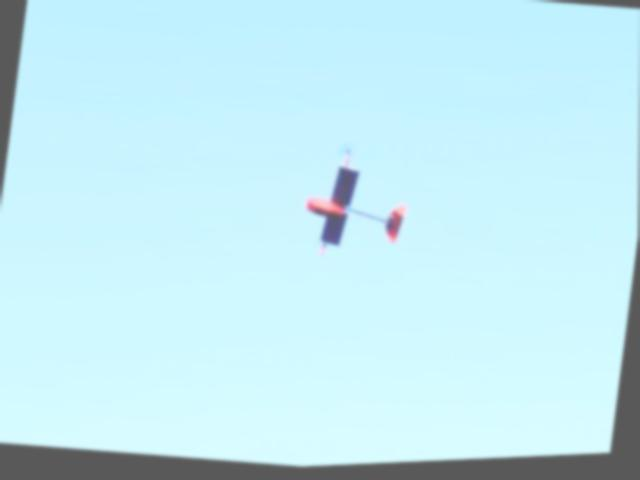uav: (293, 138, 424, 279)
